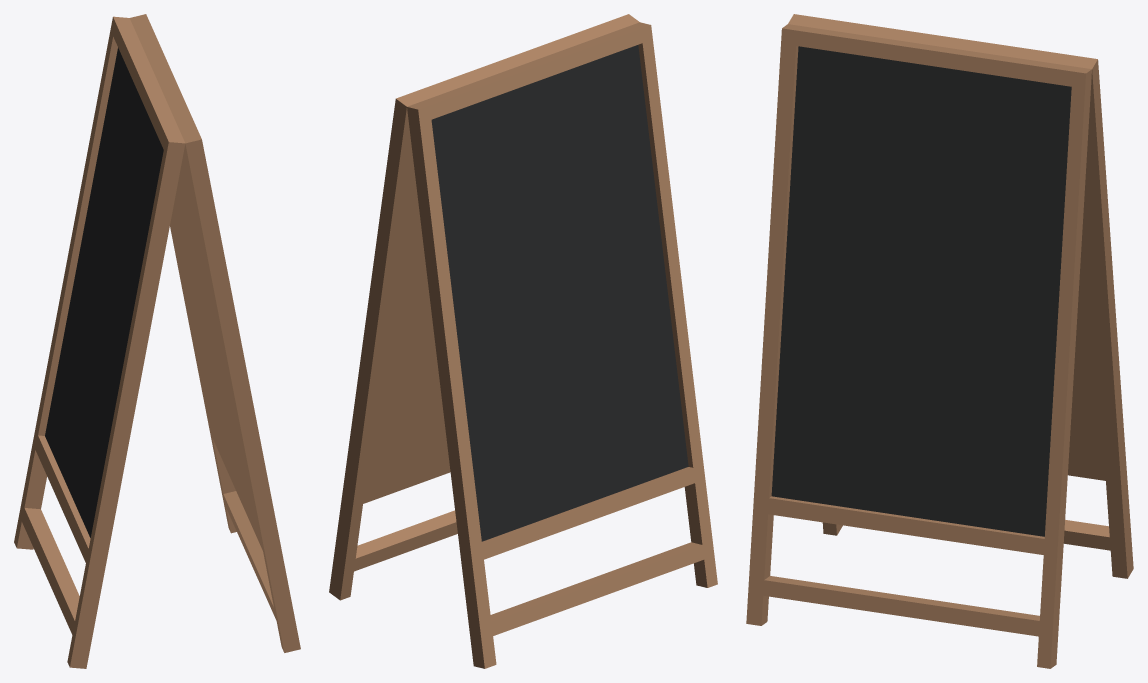
The model's file is blackboard.fbx.
3 views of the same model, side by side, from view 1: azimuth 30°, elevation 25°; view 2: azimuth 150°, elevation 25°; view 3: azimuth 270°, elevation 25° (orthographic). The views are drawn at different scales.
Parts seen in each view (by area): view 1: polySurface61, polySurface60; view 2: polySurface60, polySurface61; view 3: polySurface60, polySurface61.
Part boxes in pixels (box(x1,y1,x2,y2)): polySurface61: box(14, 14, 300, 668); polySurface60: box(45, 47, 163, 537); polySurface60: box(431, 45, 688, 541); polySurface61: box(329, 14, 717, 668); polySurface60: box(771, 46, 1071, 536); polySurface61: box(746, 14, 1133, 668).
Size of the model in its own units: 5.64 by 10.06 by 6.36.
